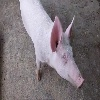heo: (34, 12, 87, 89)
